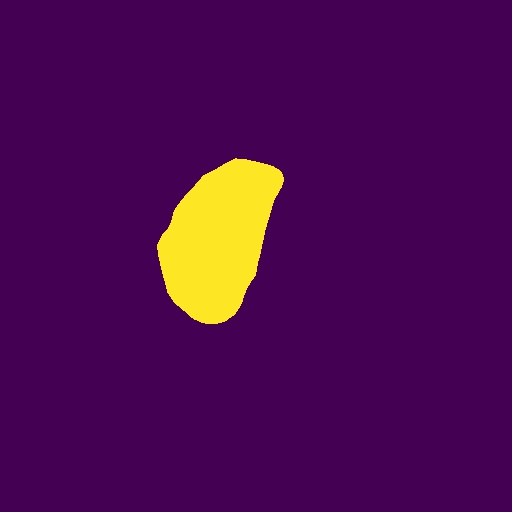Gliomia_tumour: (157, 158, 284, 324)
